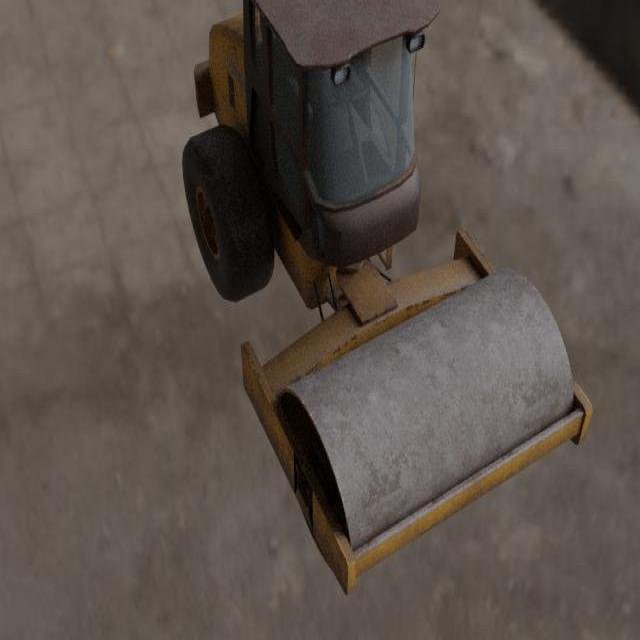Roller: (181, 0, 593, 597)
